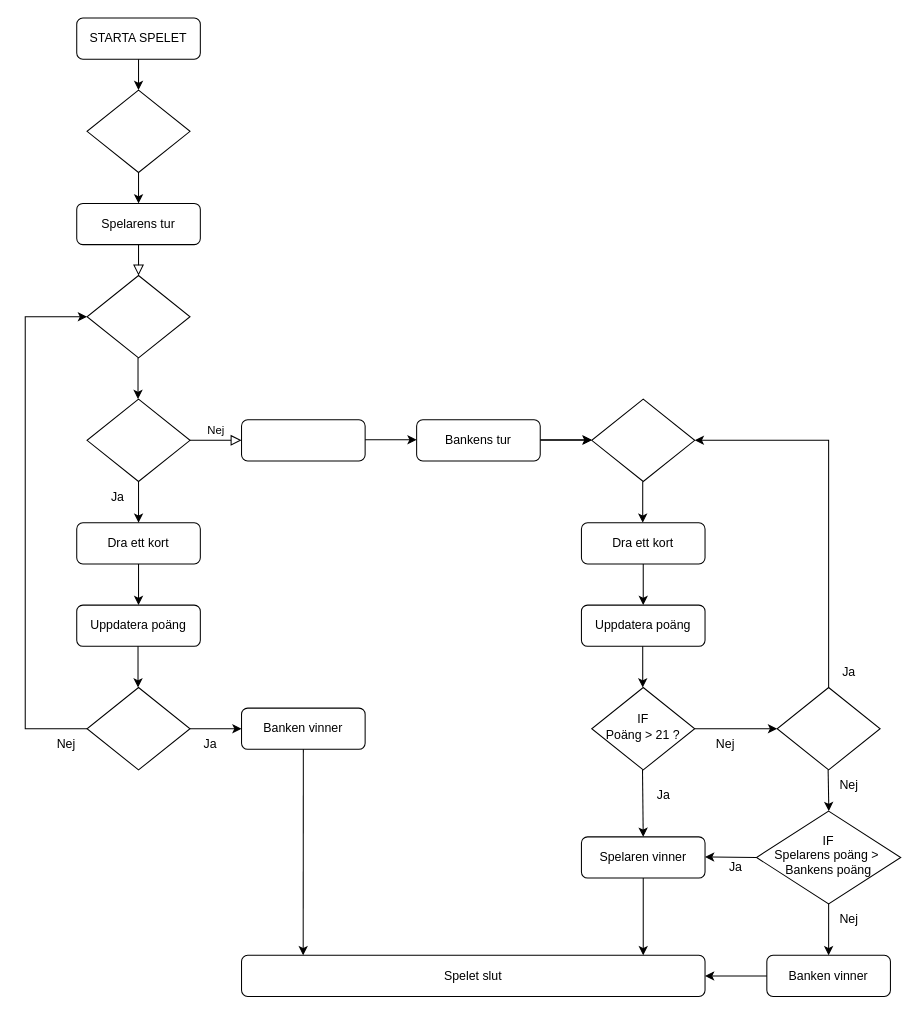
This 919x1015 diagram has some shape labels left out. The shapes that lost their labels are listed below. From the top down, each one's centre as x and y in pixels, then its label:
At point (138, 131): "WHILE spelet inte över".
At point (138, 316): "WHILE spelarens tur".
At point (138, 440): "Dra fler kort? IF".
At point (303, 440): "Spelaren stanar".
At point (643, 440): "WHILE Bankens tur".
At point (138, 728): "IF Poäng > 21".
At point (828, 728): "ELSE IF Poäng < 17 ?".
